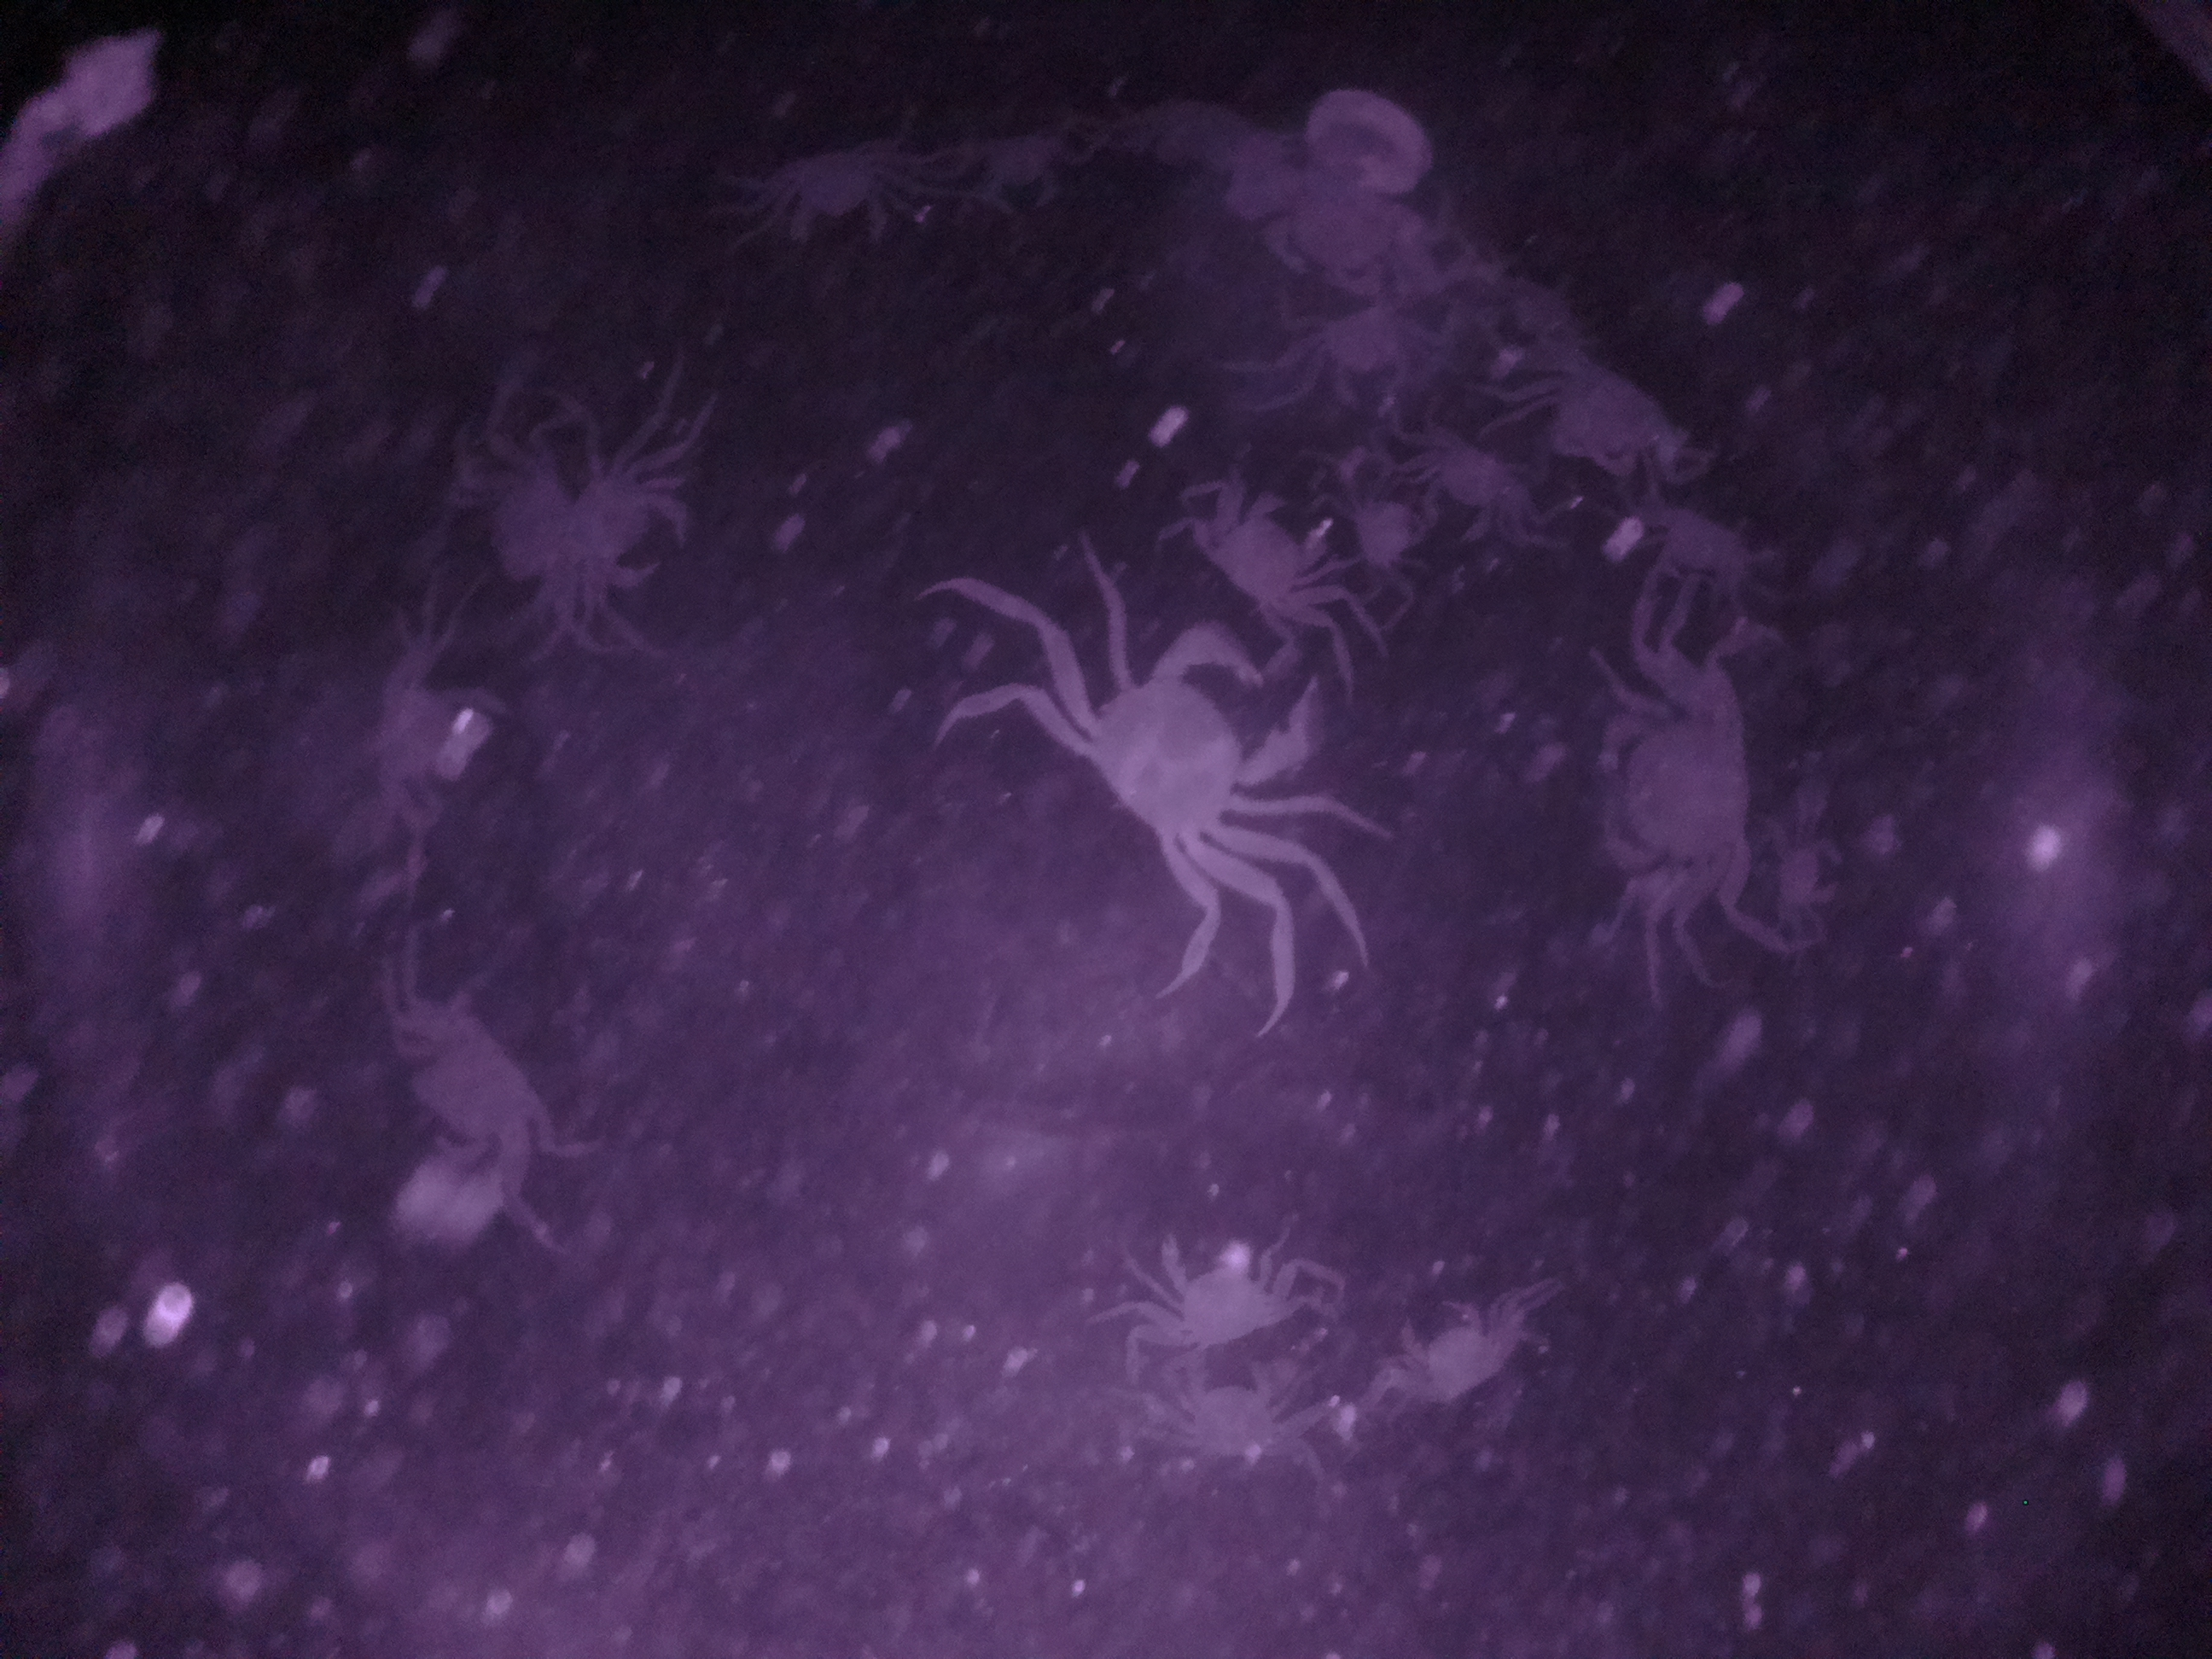Crab: (1038, 626, 1338, 917), (1581, 664, 1784, 927), (556, 443, 716, 620), (1184, 464, 1355, 627), (1374, 1277, 1524, 1441), (1134, 1222, 1296, 1370), (765, 129, 934, 256), (1158, 1330, 1303, 1478), (1407, 425, 1559, 558)
